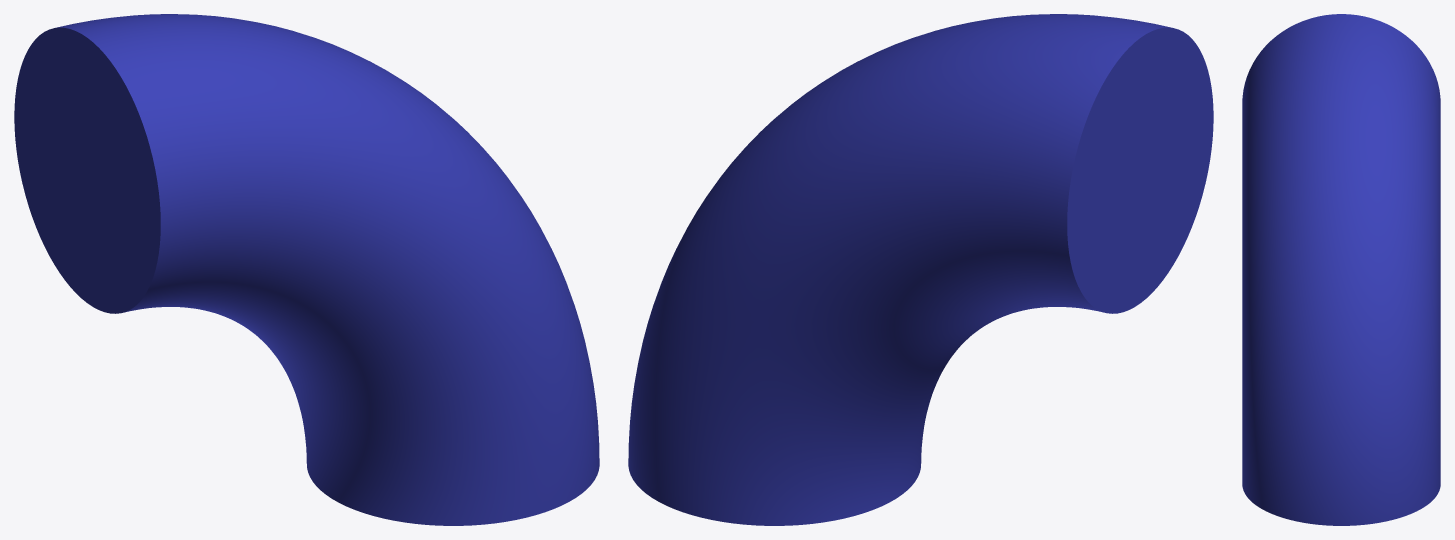
The model's file is canon.fbx.
3 views of the same model, side by side, from view 1: azimuth 30°, elevation 25°; view 2: azimuth 150°, elevation 25°; view 3: azimuth 270°, elevation 25° (orthographic). The views are drawn at different scales.
Parts seen in each view (by area): view 1: node_id4; view 2: node_id4; view 3: node_id4.
Part boxes in pixels (box(x1,y1,x2,y2)): node_id4: box(14, 14, 599, 525); node_id4: box(628, 14, 1213, 525); node_id4: box(1242, 14, 1440, 525).
Size of the model in its own units: 0.512 by 0.512 by 0.2638.
1 material, 1 textured.
